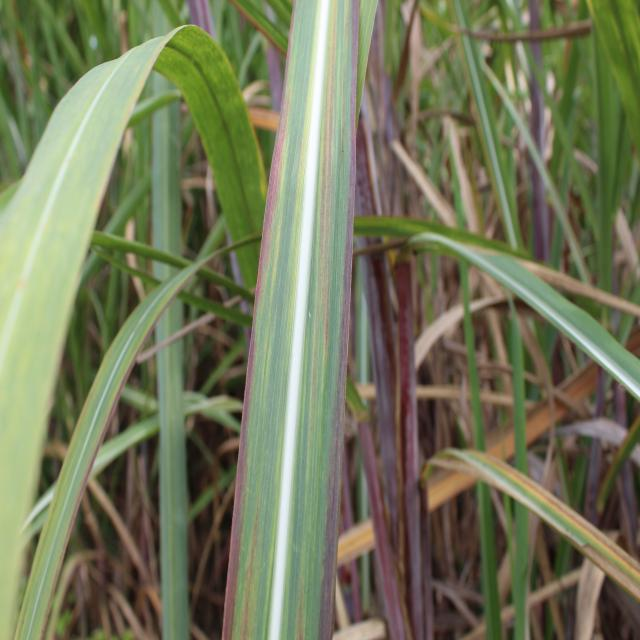Sugarcane: (217, 0, 379, 640), (10, 253, 189, 640), (348, 5, 419, 640), (5, 71, 215, 262), (425, 446, 638, 630), (354, 216, 640, 336), (415, 364, 616, 523), (145, 3, 194, 640), (482, 252, 640, 423), (481, 54, 595, 287), (570, 1, 638, 328), (78, 136, 164, 373), (447, 2, 523, 269), (77, 384, 245, 499), (156, 216, 251, 370), (519, 0, 554, 323), (126, 2, 156, 336), (553, 9, 589, 212), (0, 2, 37, 178), (15, 0, 84, 93), (95, 167, 160, 254), (100, 186, 128, 377), (599, 392, 640, 514), (66, 268, 97, 426), (90, 413, 162, 481), (352, 1, 385, 136), (215, 1, 293, 56), (195, 328, 252, 402), (88, 229, 181, 273), (62, 0, 114, 76), (117, 88, 182, 136), (414, 1, 464, 42)
